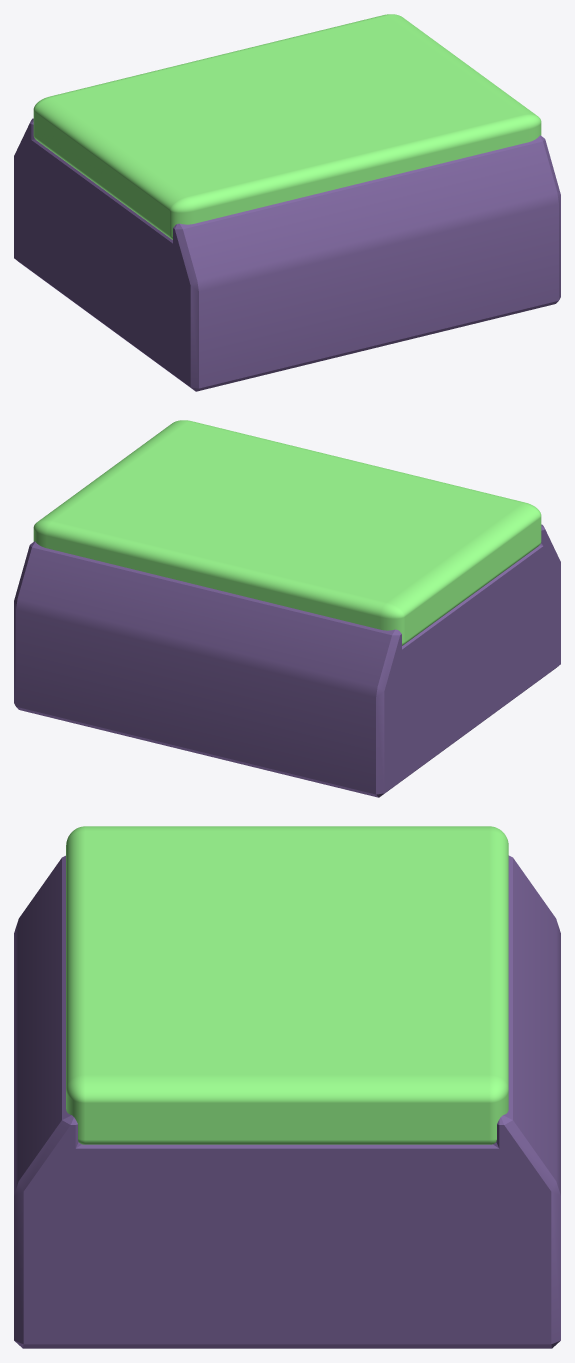
3 views of the same model, one above another, from view 1: azimuth 30°, elevation 25°; view 2: azimuth 150°, elevation 25°; view 3: azimuth 270°, elevation 25° (orthographic). The views are drawn at different scales.
Parts seen in each view (by area): view 1: Cube.004, Plane.007; view 2: Cube.004, Plane.007; view 3: Plane.007, Cube.004.
Boxes of the visible parts, left/top/right/bottom form: Cube.004: left=14, top=118, right=560, bottom=391; Plane.007: left=33, top=14, right=541, bottom=239; Cube.004: left=14, top=524, right=560, bottom=797; Plane.007: left=33, top=420, right=541, bottom=645; Plane.007: left=66, top=826, right=508, bottom=1144; Cube.004: left=14, top=855, right=560, bottom=1348.
Bounding box in the file's own units: 155 × 70.78 × 133.
